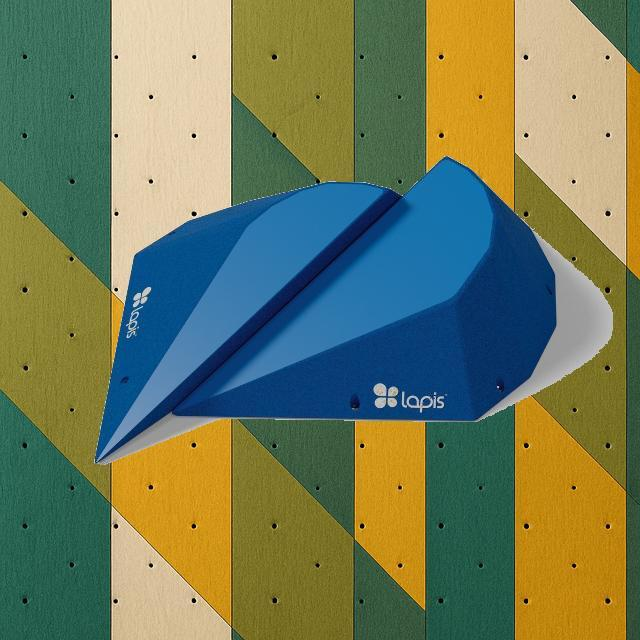Volume: (170, 156, 558, 424), (94, 182, 404, 464)
